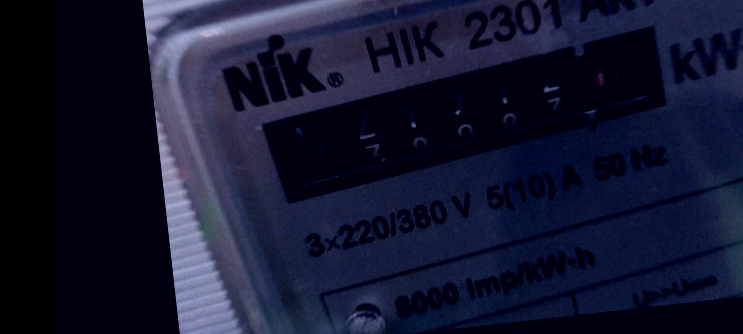0: (299, 115, 331, 154)
1: (586, 46, 613, 91)
2: (347, 100, 380, 142), (533, 56, 565, 95)
7: (487, 66, 517, 110), (396, 93, 423, 132)
9: (442, 80, 472, 118)
screen: (239, 13, 705, 216)
